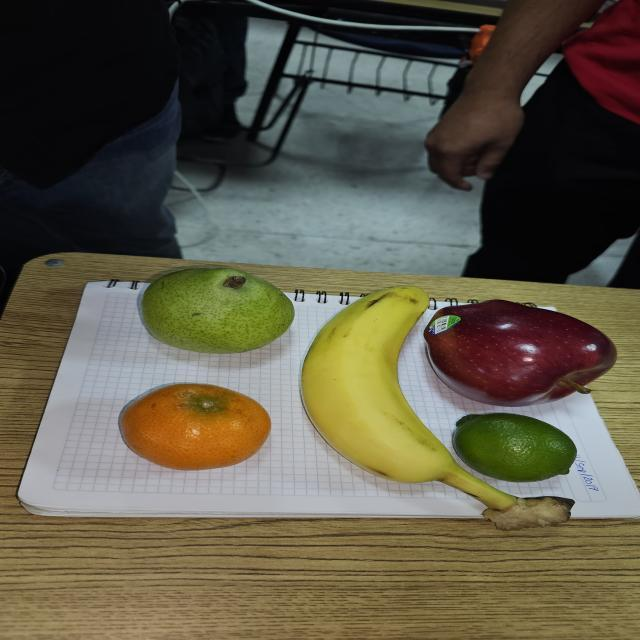Apel Merah: (415, 295, 621, 411)
Jeruk Mandarin: (118, 378, 276, 476)
Lemon: (430, 404, 582, 483)
Pir: (122, 261, 308, 356)
Pisang: (292, 284, 590, 533)
